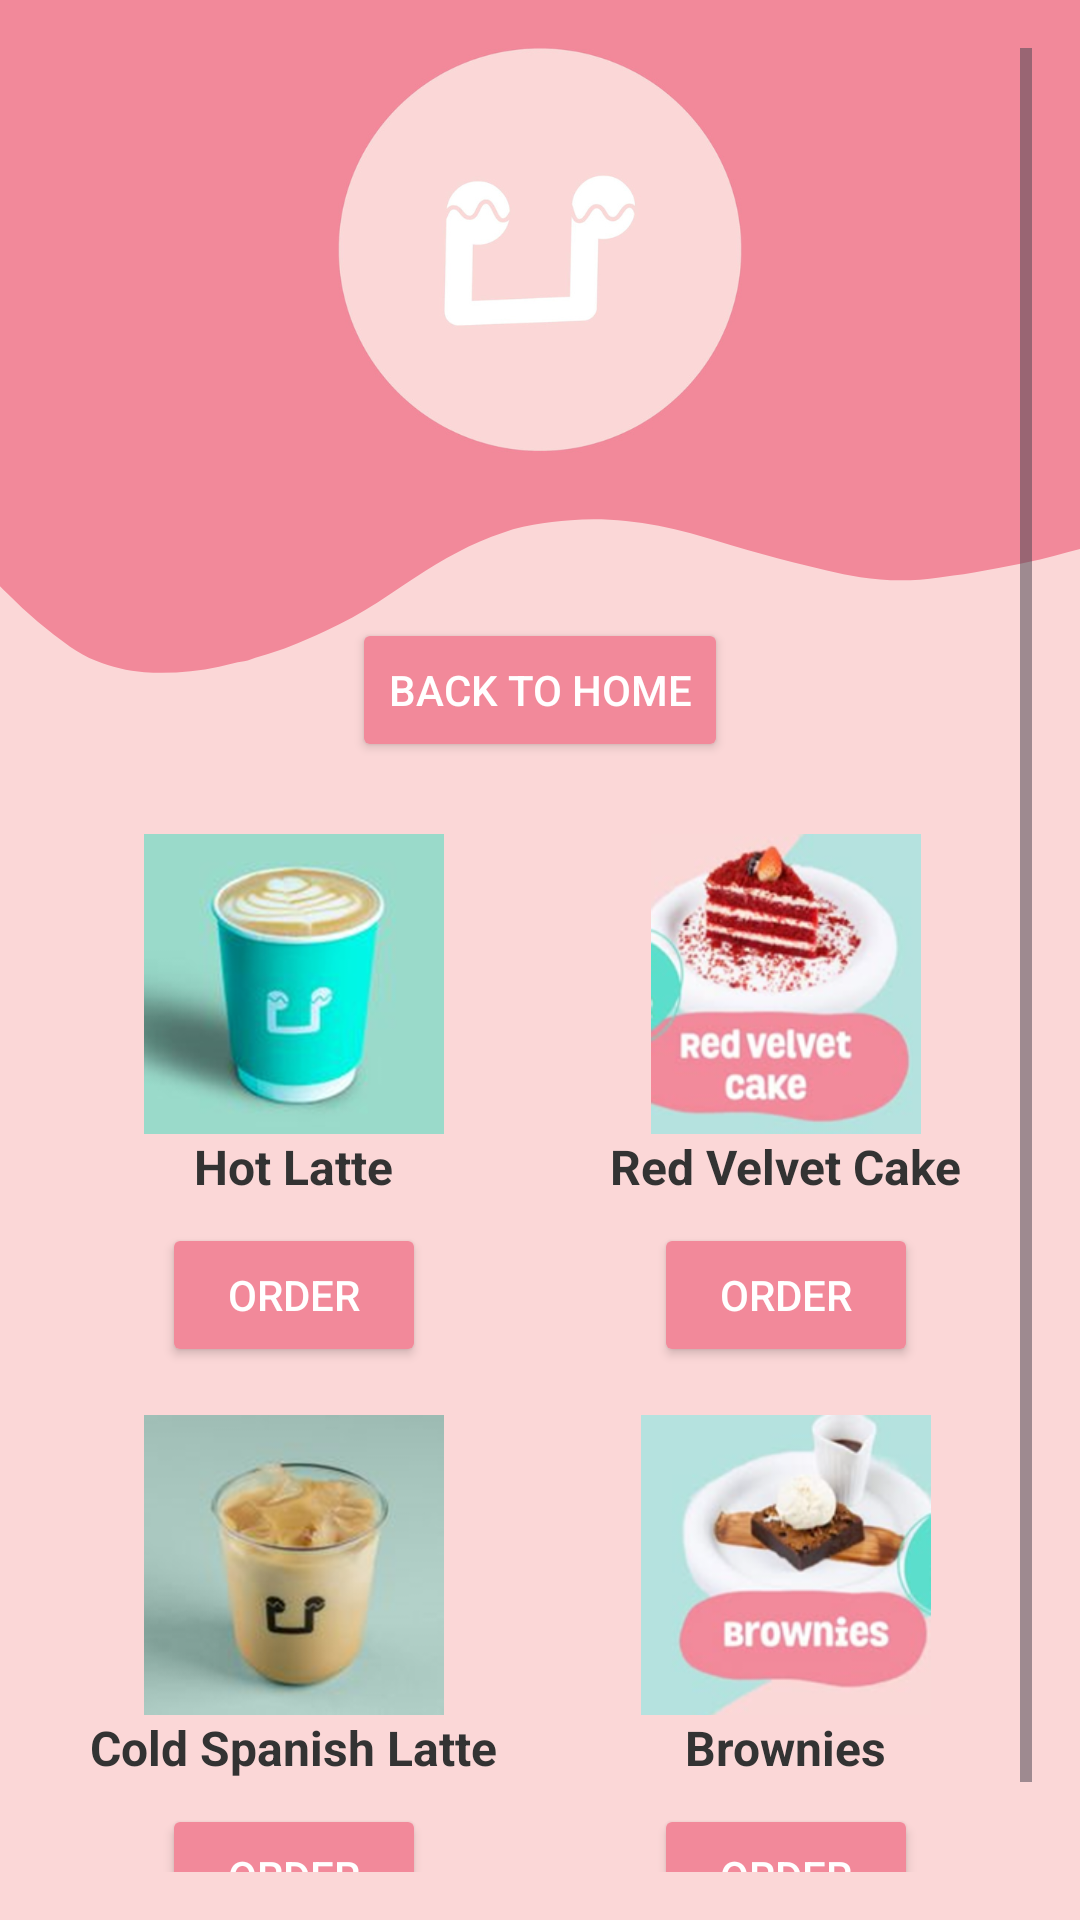

Screen size 1080 x 1920. Icon name, then its center in pixels as [x,y]:
span hot: [294,984]
